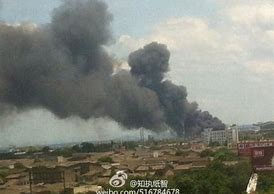smoke: (1, 1, 221, 128)
